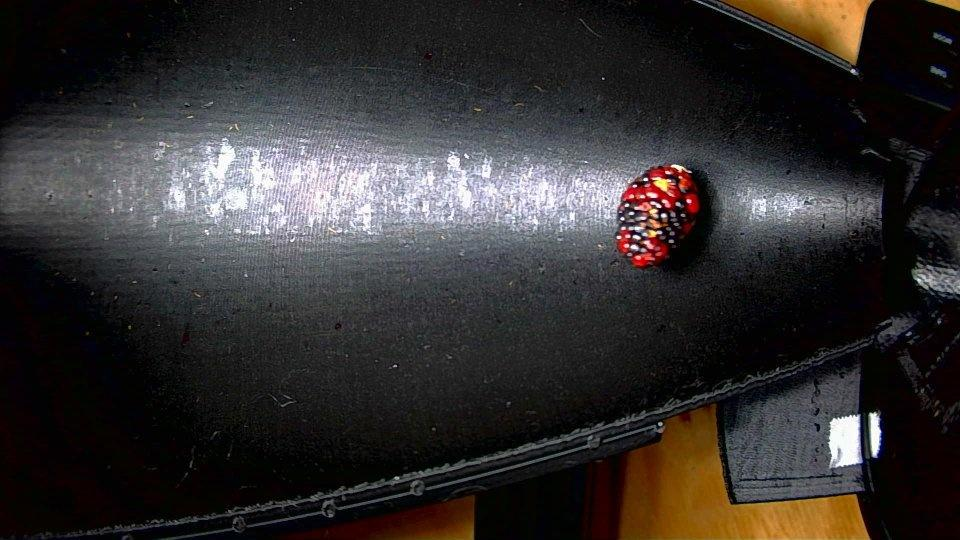berry: (617, 164, 700, 267)
